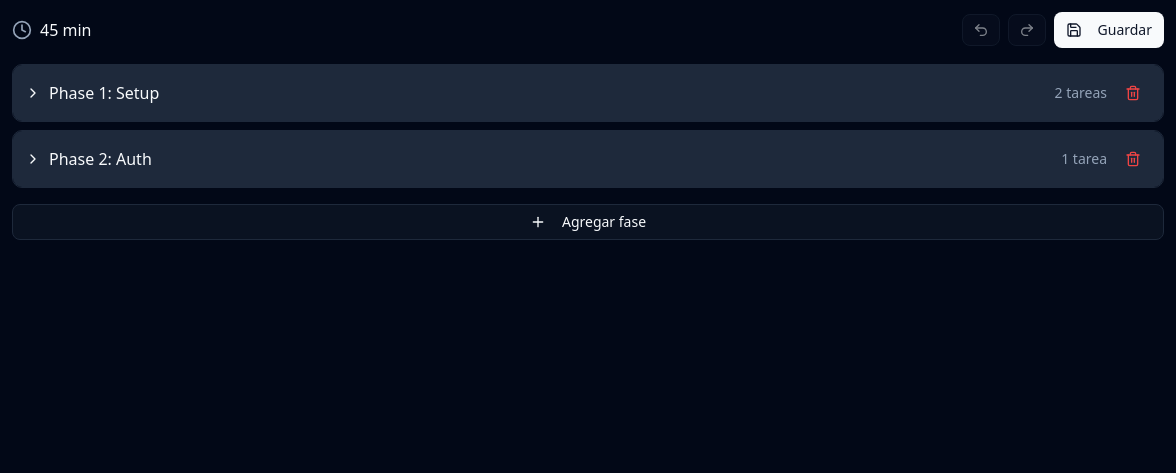
Scenario: PlanEditor › Task editing › should allow adding a new task
Step 1. Click the button "Phase 1: Setup" → (104, 93), box x1=25 y1=81 x2=1046 y2=105
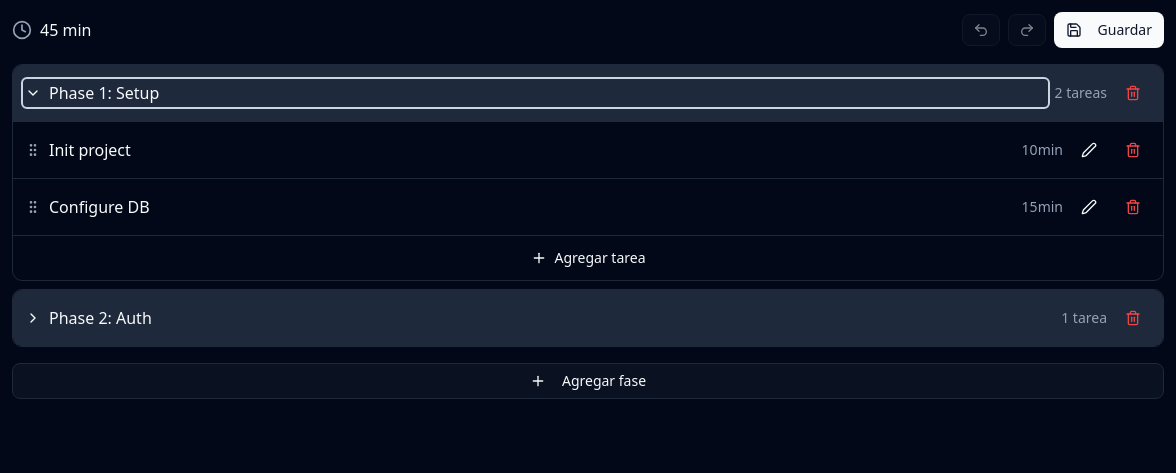
Step 2. Click the button with test id "add-task-phase-0" → (588, 258), box x1=13 y1=236 x2=1163 y2=280
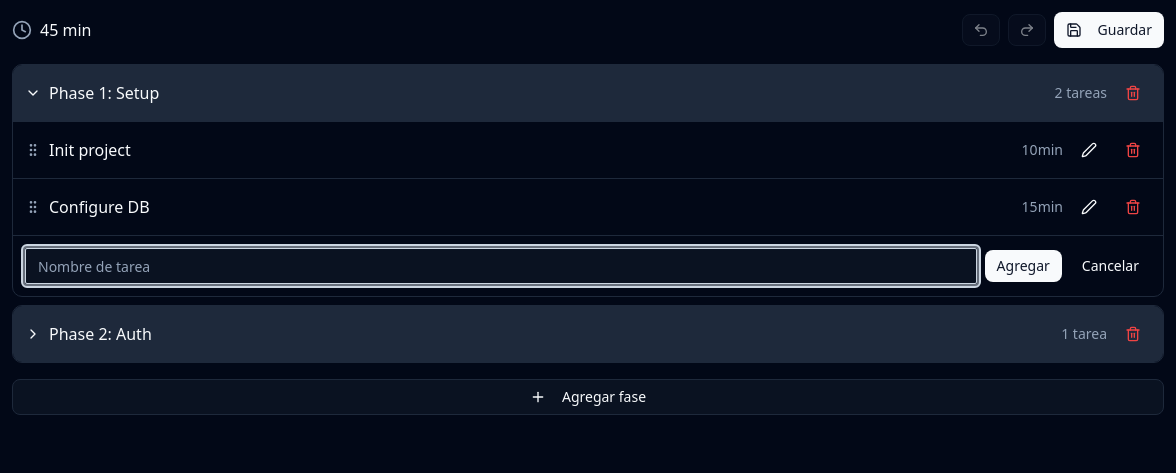
Step 3. Type "New Task" into the field with placeholder "Nombre de tarea" → (501, 266), box x1=25 y1=248 x2=977 y2=284
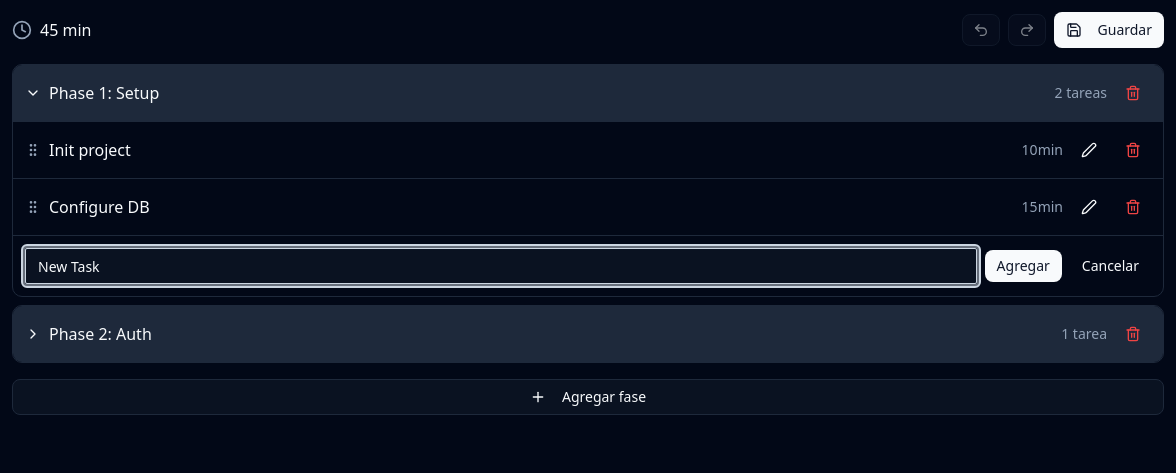
# Use getAllByRole and get the first button with "agregar" that's NOT "agregar fase"
Step 4. Click the button "Agregar" → (1023, 266), box x1=985 y1=250 x2=1062 y2=282
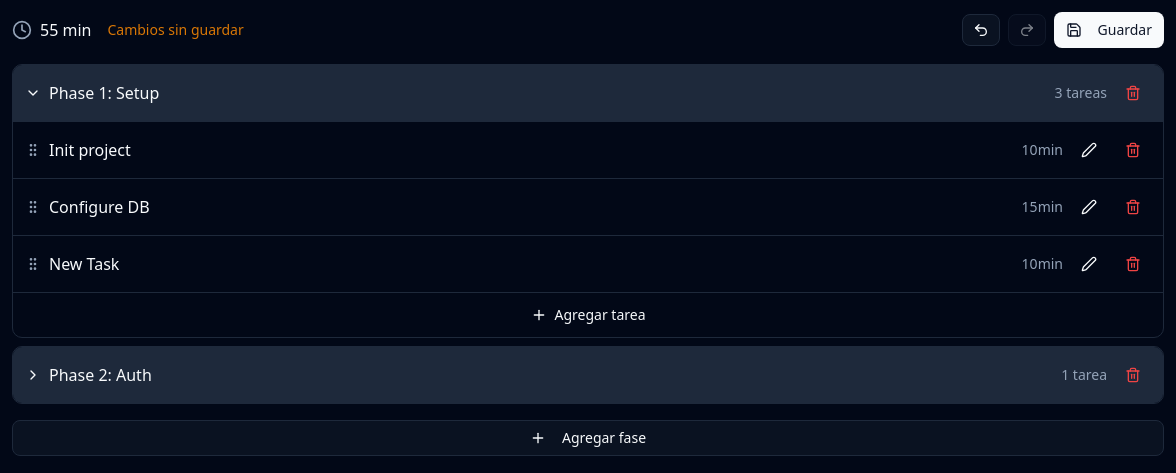
Expected: the text "New Task" is shown, x1=49 y1=253 x2=119 y2=275
